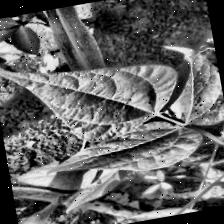ALS: (18, 54, 170, 152), (42, 112, 192, 184), (161, 38, 224, 124), (60, 158, 130, 211)
